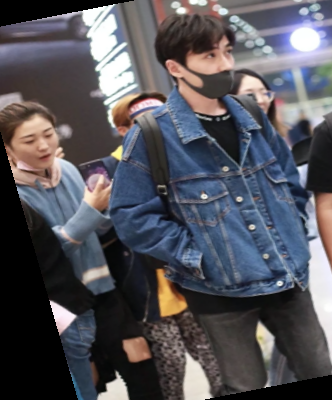mask_weared_incorrect: (151, 11, 242, 105), (1, 90, 62, 175)
